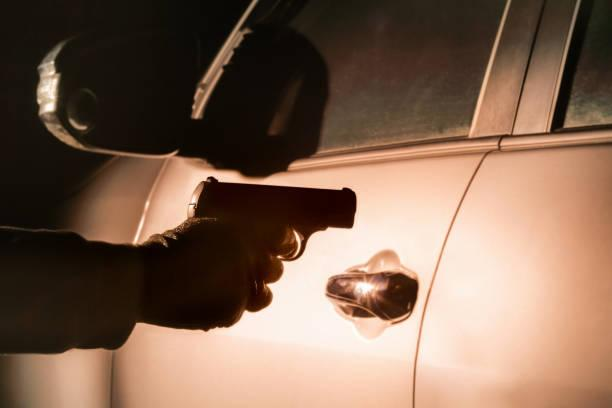weapon: (186, 173, 358, 275)
